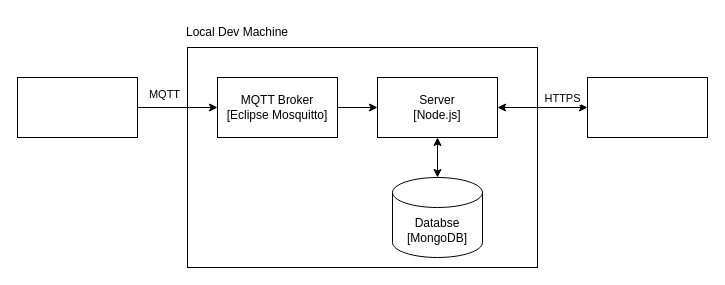
Image size: 725x285. Some labels were removed from this diagram. The shapes that lost their labels are listed below. From the top down, each one's centre as x and y in pixels, then its label:
pixel 77 107: IoT Device [ESP32]
pixel 647 107: Client [Web browser]
